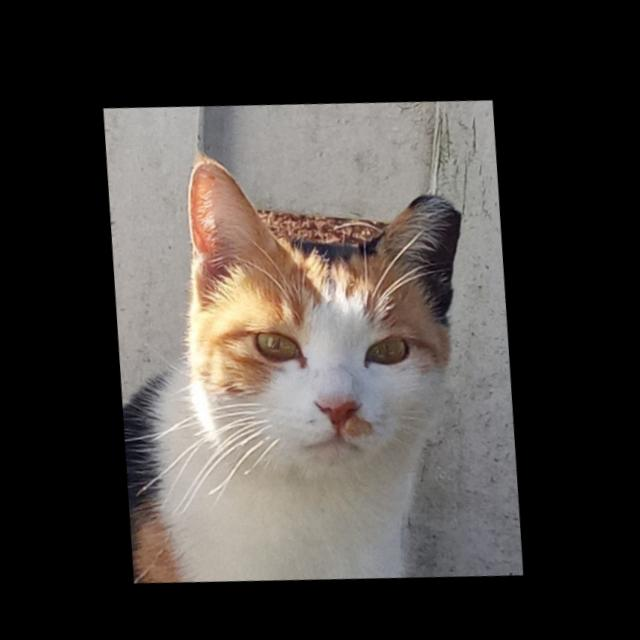animals: (170, 129, 492, 498)
